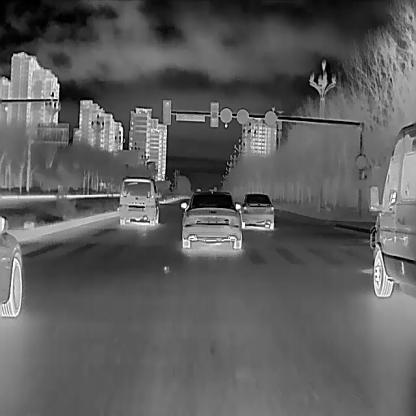car: (366, 118, 415, 298), (179, 188, 242, 248), (117, 175, 159, 224), (237, 191, 274, 229)
